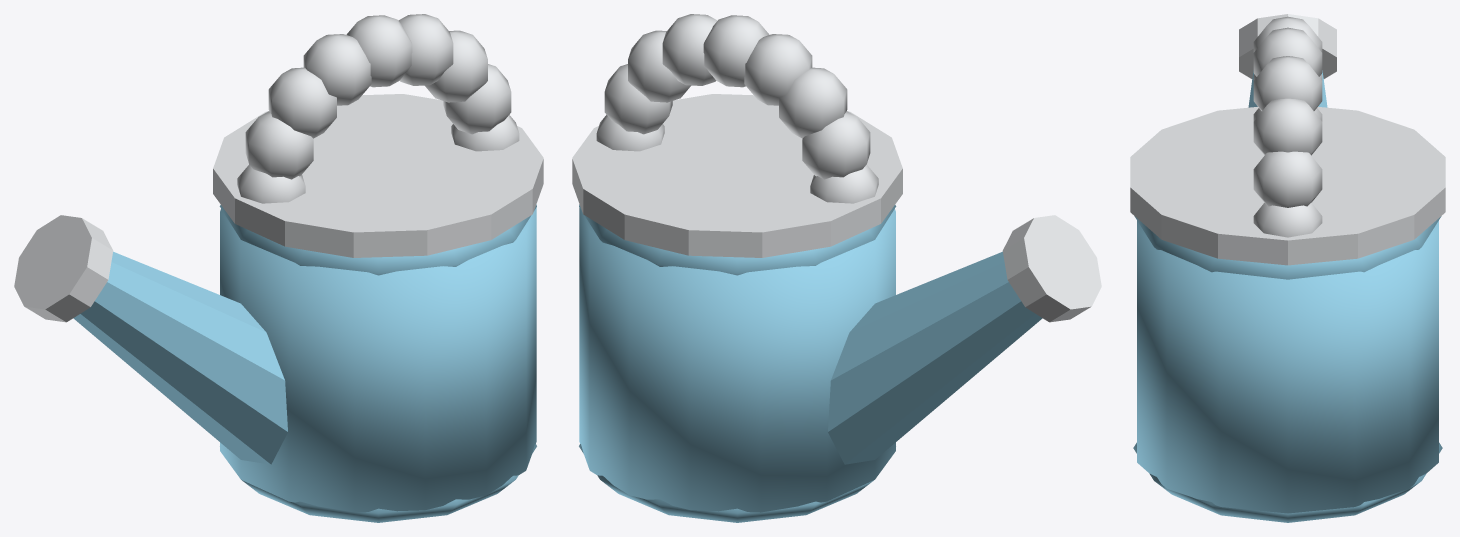
Rendered from tool_can.fbx.
3 views of the same model, side by side, from view 1: azimuth 30°, elevation 25°; view 2: azimuth 150°, elevation 25°; view 3: azimuth 270°, elevation 25° (orthographic). The views are drawn at different scales.
Parts seen in each view (by area): view 1: TOOL_can; view 2: TOOL_can; view 3: TOOL_can.
Part boxes in pixels (x1,y1,x2,y2): TOOL_can: (14, 14, 543, 522); TOOL_can: (572, 14, 1101, 522); TOOL_can: (1130, 14, 1445, 522).
Size of the model in its own units: 32.59 by 29.14 by 18.33.
